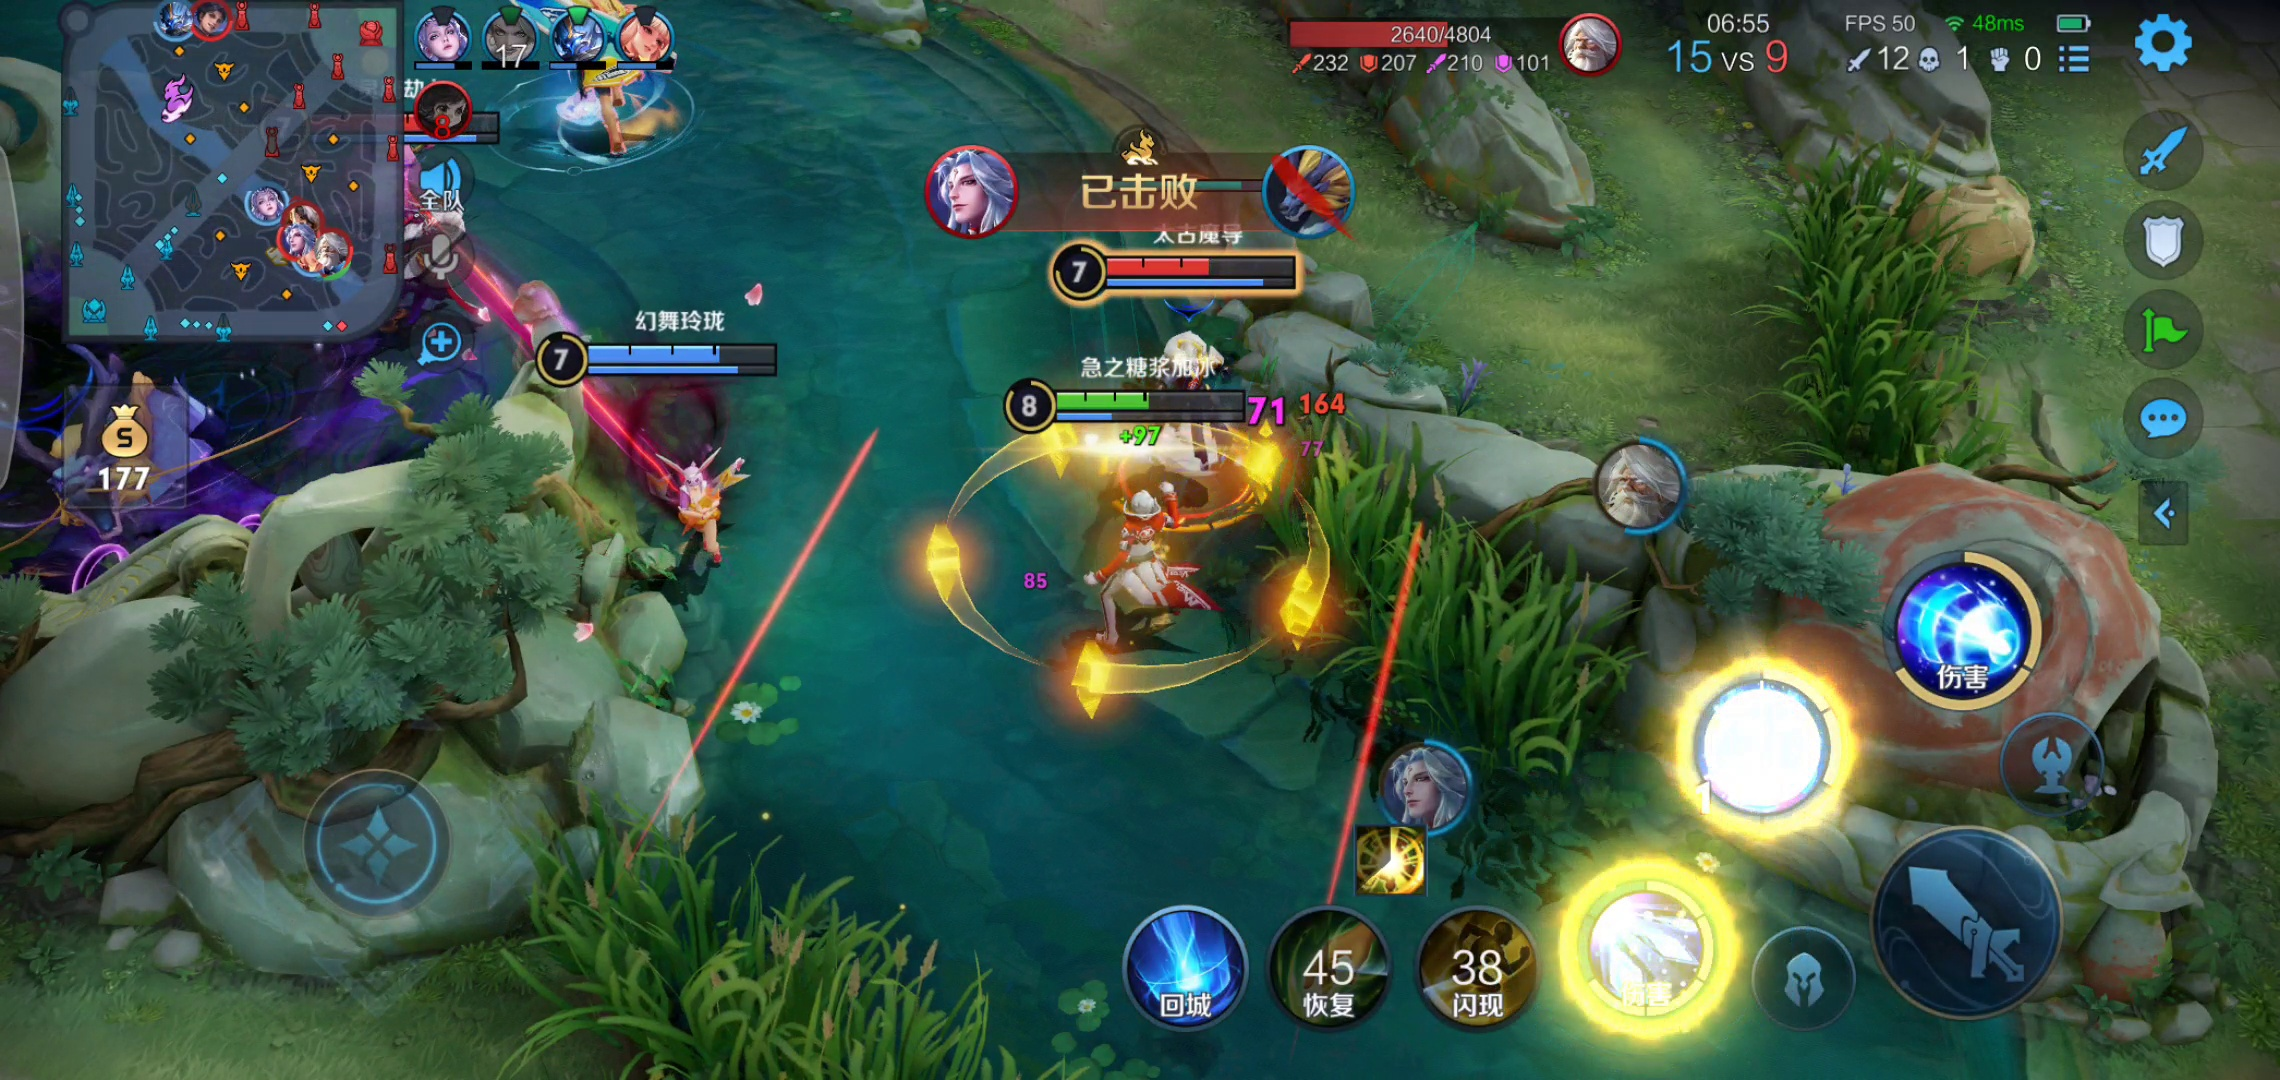dragon: (31, 231, 462, 549)
grass: (499, 799, 995, 1079), (1258, 464, 1629, 785), (1777, 158, 1989, 471)
hero: (1027, 459, 1237, 657), (539, 1, 676, 172), (1115, 331, 1261, 468), (631, 446, 782, 551)
